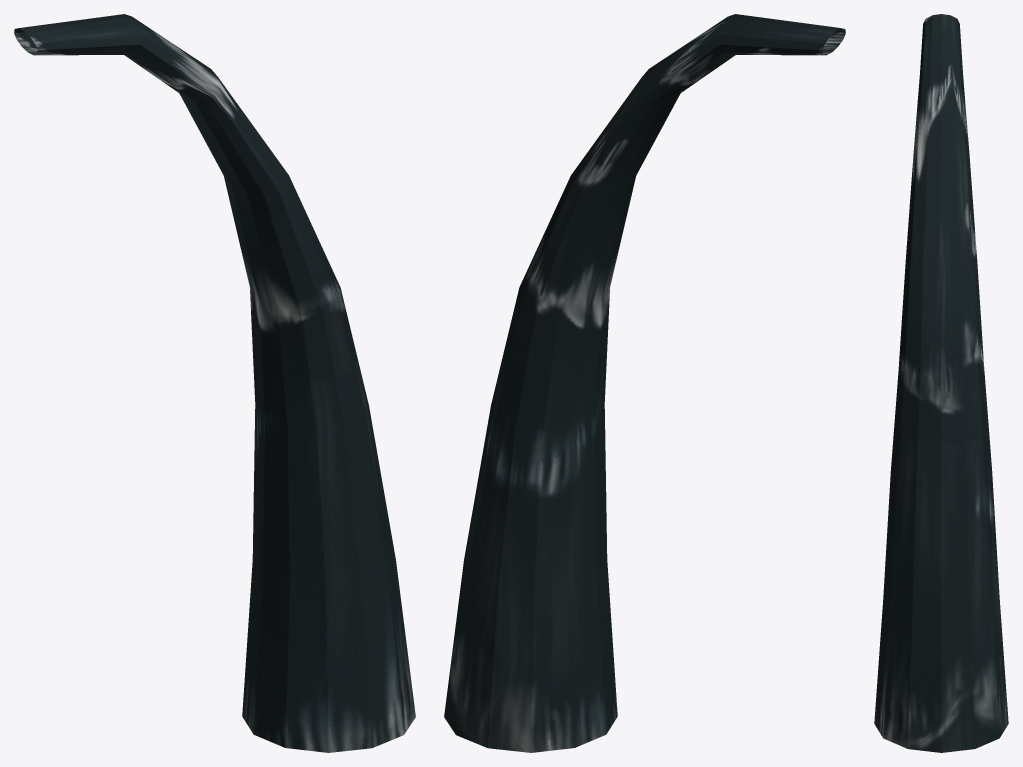
The model's file is water_4.fbx.
The picture shows the model from 3 angles, left to right: view 1: azimuth 30°, elevation 25°; view 2: azimuth 150°, elevation 25°; view 3: azimuth 270°, elevation 25°; orthographic projection. The views are drawn at different scales.
Visible parts, largest first — view 1: pCylinder2; view 2: pCylinder2; view 3: pCylinder2.
Boxes of the visible parts, left/top/right/bottom form: pCylinder2: left=14, top=14, right=415, bottom=752; pCylinder2: left=444, top=14, right=845, bottom=752; pCylinder2: left=874, top=14, right=1008, bottom=752.
Bounding box in the file's own units: 312 × 595 × 122.
